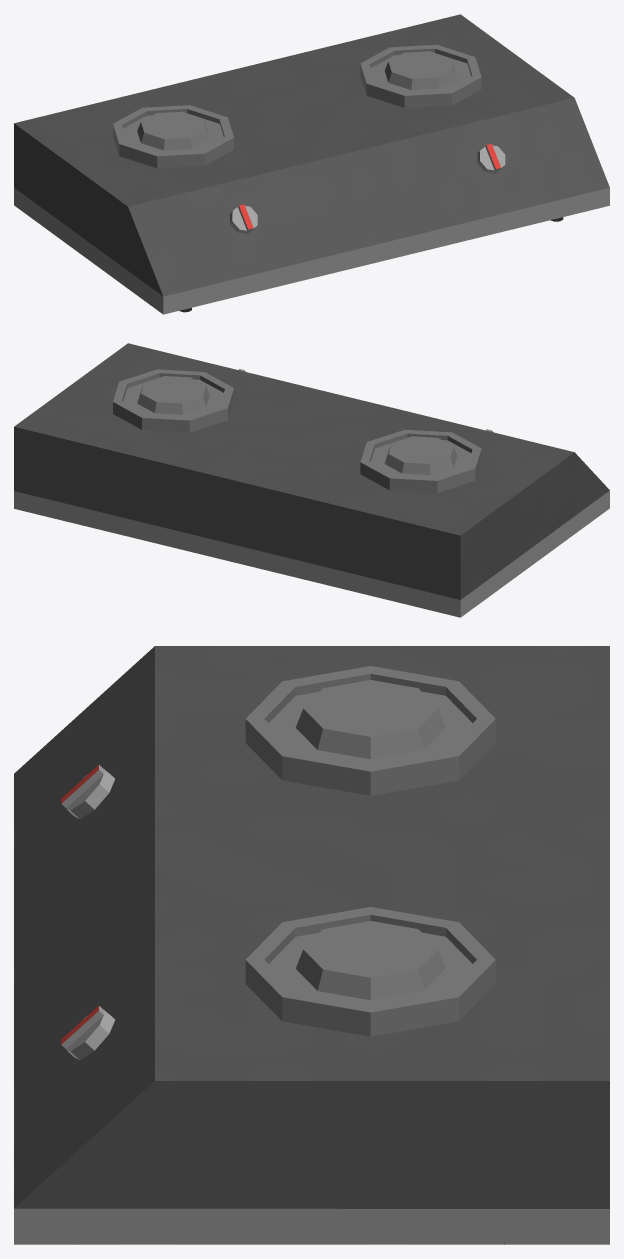
The model's file is Stove.fbx.
3 views of the same model, one above another, from view 1: azimuth 30°, elevation 25°; view 2: azimuth 150°, elevation 25°; view 3: azimuth 270°, elevation 25° (orthographic). The views are drawn at different scales.
Visible parts, largest first — view 1: Stove; view 2: Stove; view 3: Stove.
Part boxes in pixels (left/top/right/bottom): Stove: left=14, top=14, right=609, bottom=314; Stove: left=14, top=343, right=609, bottom=617; Stove: left=14, top=646, right=609, bottom=1244.
Bounding box in the file's own units: 0.8662 × 0.2132 × 0.5018.
